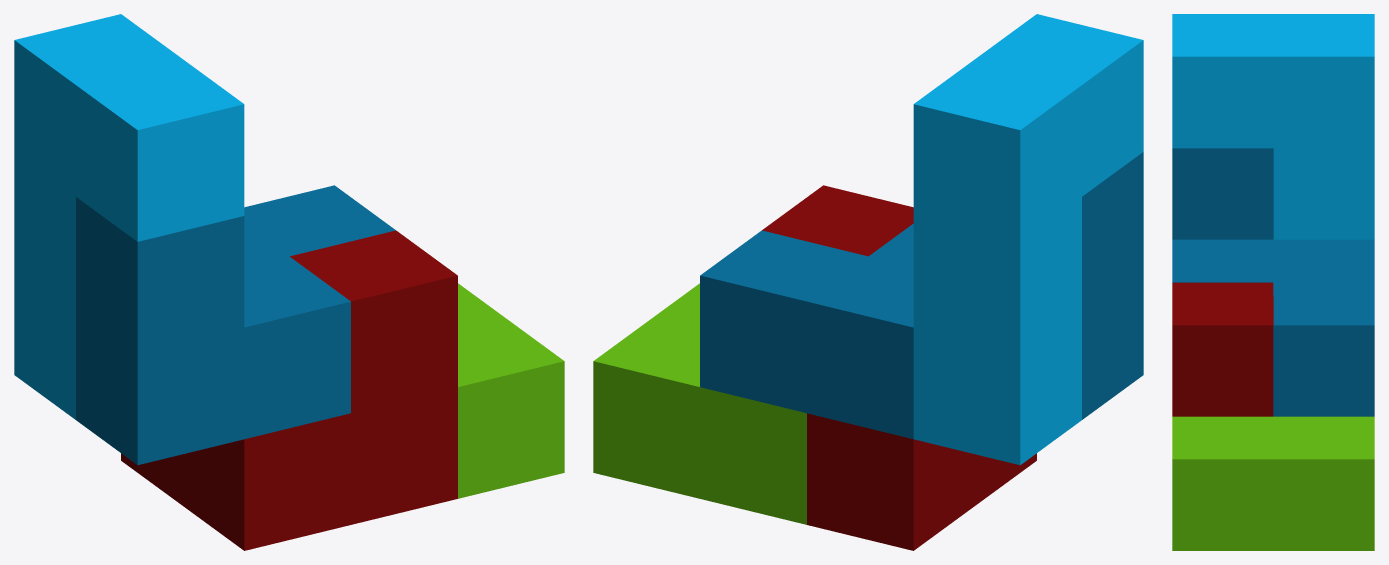
3 renders of one model, left to right at view 1: azimuth 30°, elevation 25°; view 2: azimuth 150°, elevation 25°; view 3: azimuth 270°, elevation 25°, orthographic. The views are drawn at different scales.
Visible parts, largest first — view 1: mergedBlocks(Clone); view 2: mergedBlocks(Clone); view 3: mergedBlocks(Clone).
Boxes of the visible parts, x1=… form: mergedBlocks(Clone): x1=14, y1=14, x2=564, y2=550; mergedBlocks(Clone): x1=593, y1=14, x2=1143, y2=550; mergedBlocks(Clone): x1=1172, y1=14, x2=1374, y2=550.
Size of the model in its own units: 4 by 4 by 2.
Materials: 4 (4 with a texture image).
